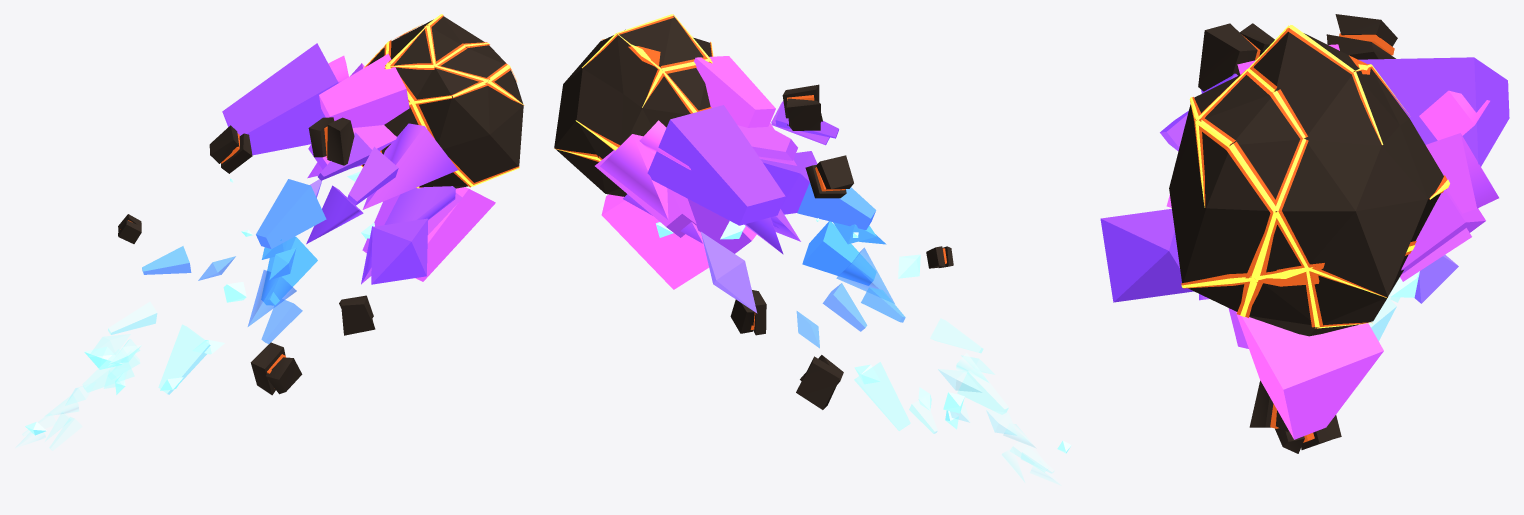
The model's file is fx_meteor.glb.
The picture shows the model from 3 angles, left to right: view 1: azimuth 30°, elevation 25°; view 2: azimuth 150°, elevation 25°; view 3: azimuth 270°, elevation 25°; orthographic projection. The views are drawn at different scales.
Parts seen in each view (by area): view 1: Rock_Stone, Flame_Shard_12, Flame_Shard_03, Flame_Shard_06, Flame_Shard_15, Flame_Shard_19, Flame_Shard_04, Rock, Flame_Shard_08, Flame_Shard_20, Flame_Shard_27, Flame_Shard_13 (+16 smaller); view 2: Rock_Stone, Flame_Shard_12, Flame_Shard_04, Flame_Shard_03, Flame_Shard_05, Flame_Shard_20, Flame_Shard_18, Flame_Shard_19, Flame_Shard_15, Flame_Shard_27, Rock, Flame_Shard_01 (+14 smaller); view 3: Rock_Stone, Flame_Shard_04, Flame_Shard_12, Rock, Flame_Shard_15, Flame_Shard_05, Chunk_04_Stone_A, Flame_Shard_01, Flame_Shard_07, Rock_Seam_02_Core, Rock_Seam_06_Core, Rock_Seam_04_Core (+11 smaller).
Boxes of the visible parts, <box> form: Rock_Stone: <box>362,16,523,188</box>; Flame_Shard_12: <box>222,43,338,155</box>; Flame_Shard_03: <box>319,53,409,127</box>; Flame_Shard_06: <box>362,123,457,209</box>; Flame_Shard_15: <box>371,218,428,284</box>; Flame_Shard_19: <box>256,179,326,248</box>; Flame_Shard_04: <box>415,187,495,281</box>; Rock: <box>361,15,523,187</box>; Flame_Shard_08: <box>384,186,455,224</box>; Flame_Shard_20: <box>261,236,317,305</box>; Flame_Shard_27: <box>158,324,210,394</box>; Flame_Shard_13: <box>347,146,398,205</box>; Rock_Stone: <box>554,16,711,196</box>; Flame_Shard_12: <box>647,105,785,225</box>; Flame_Shard_04: <box>601,194,708,289</box>; Flame_Shard_03: <box>694,56,775,127</box>; Flame_Shard_05: <box>600,134,668,219</box>; Flame_Shard_20: <box>802,221,876,285</box>; Flame_Shard_18: <box>701,232,757,313</box>; Flame_Shard_19: <box>797,182,876,229</box>; Flame_Shard_15: <box>760,151,817,214</box>; Flame_Shard_27: <box>854,362,910,430</box>; Rock: <box>555,15,712,161</box>; Flame_Shard_01: <box>595,150,696,237</box>; Rock_Stone: <box>1169,31,1443,336</box>; Flame_Shard_04: <box>1235,311,1383,439</box>; Flame_Shard_12: <box>1358,57,1509,166</box>; Rock: <box>1181,27,1447,328</box>; Flame_Shard_15: <box>1100,208,1193,302</box>; Flame_Shard_05: <box>1425,133,1498,213</box>; Chunk_04_Stone_A: <box>1198,23,1257,91</box>; Flame_Shard_01: <box>1401,189,1485,273</box>; Flame_Shard_07: <box>1419,90,1489,140</box>; Rock_Seam_02_Core: <box>1189,97,1372,328</box>; Rock_Seam_06_Core: <box>1240,68,1305,317</box>; Rock_Seam_04_Core: <box>1195,25,1383,207</box>.
Bounding box in the file's own units: 9.43 × 7.76 × 4.29.
